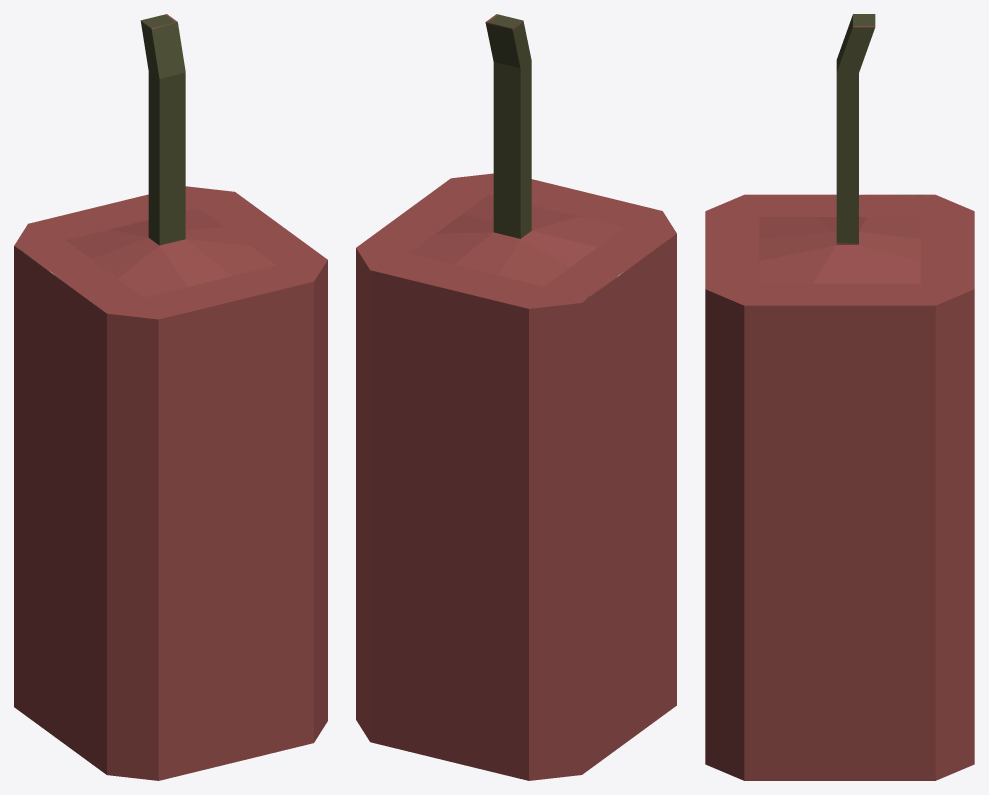
Rendered from Candle-V.2.fbx.
3 views of the same model, side by side, from view 1: azimuth 30°, elevation 25°; view 2: azimuth 150°, elevation 25°; view 3: azimuth 270°, elevation 25° (orthographic). The views are drawn at different scales.
Parts seen in each view (by area): view 1: Candle; view 2: Candle; view 3: Candle.
Boxes of the visible parts, x1=… form: Candle: x1=14, y1=14, x2=327, y2=780; Candle: x1=356, y1=14, x2=676, y2=780; Candle: x1=705, y1=14, x2=974, y2=780.
Bounding box in the file's own units: 53.52 × 158 × 54.84.
